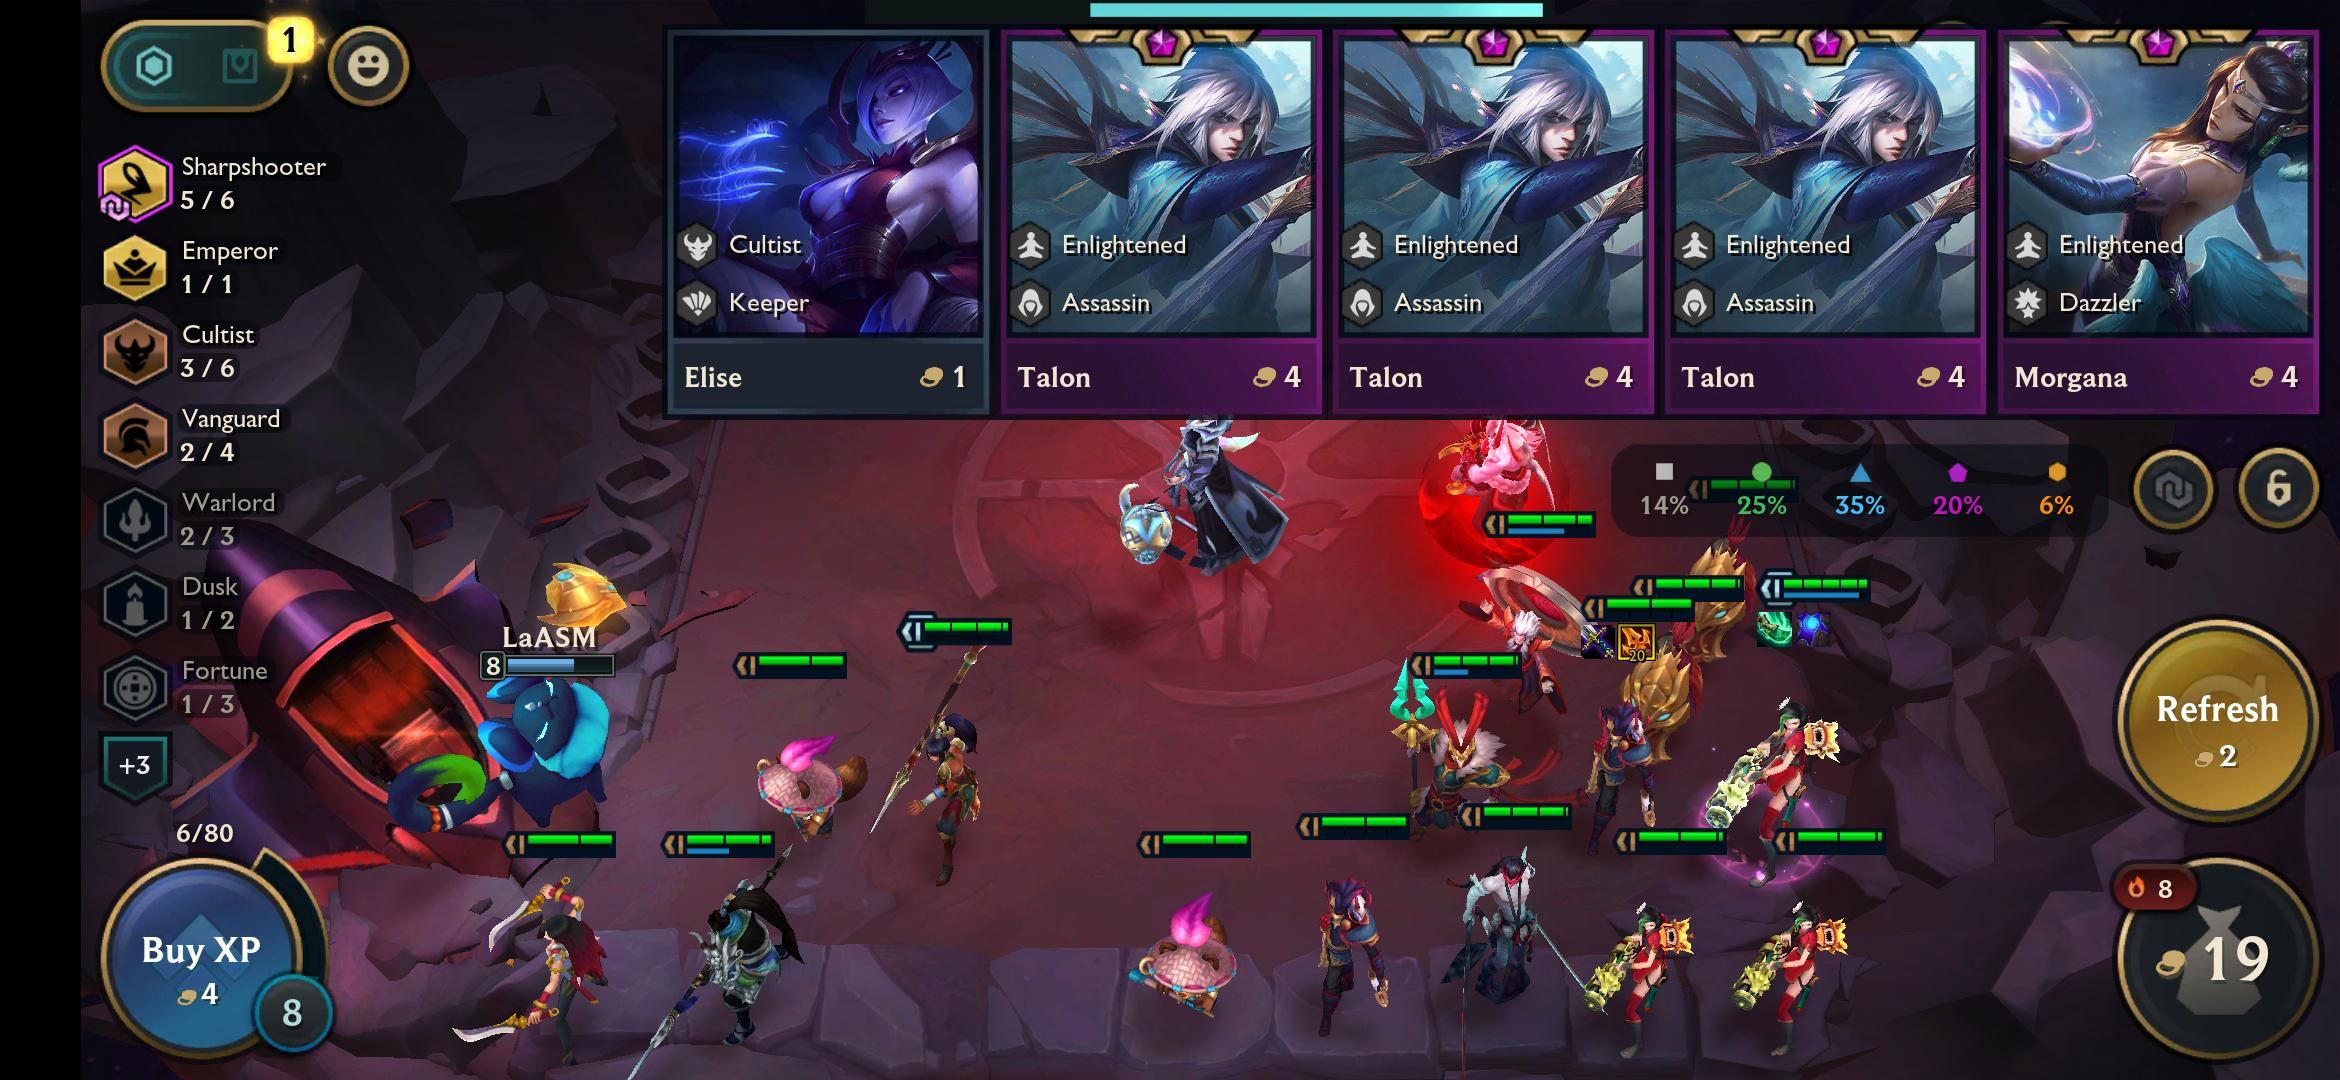1star_azir: (1376, 638, 1592, 882)
1star_azirsoldier: (1659, 465, 1809, 683), (1601, 565, 1751, 782)
1star_jhin: (1565, 588, 1704, 852), (1283, 806, 1424, 1055)
1star_jinx: (1568, 816, 1739, 1071), (1722, 817, 1892, 1073)
1star_katarina: (428, 822, 628, 1080)
1star_teemo: (1115, 822, 1270, 1047), (722, 638, 877, 864)
1star_xinzhao: (619, 822, 819, 1080)
1star_yone: (1433, 794, 1603, 1049)
1star_zilean: (1437, 498, 1606, 735)
2star_jinx: (1680, 562, 1879, 900)
2star_jinx_chosen: (1677, 559, 1877, 897)
2star_nidalee: (863, 598, 1025, 894)
item_bf: (1577, 618, 1619, 662)
item_bluebuff: (1798, 606, 1839, 650)
item_deathblade: (1618, 622, 1659, 667)
item_shojin: (1756, 604, 1797, 649)
trait_cultist3: (90, 301, 372, 397)
trait_dusk1: (85, 552, 366, 647)
trait_emperor1: (94, 219, 375, 313)
trait_fortune1: (88, 640, 369, 735)
trait_sharpshooter5: (93, 137, 375, 233)
trait_vanguard2: (90, 385, 370, 480)
trait_warlord2: (90, 470, 370, 565)
